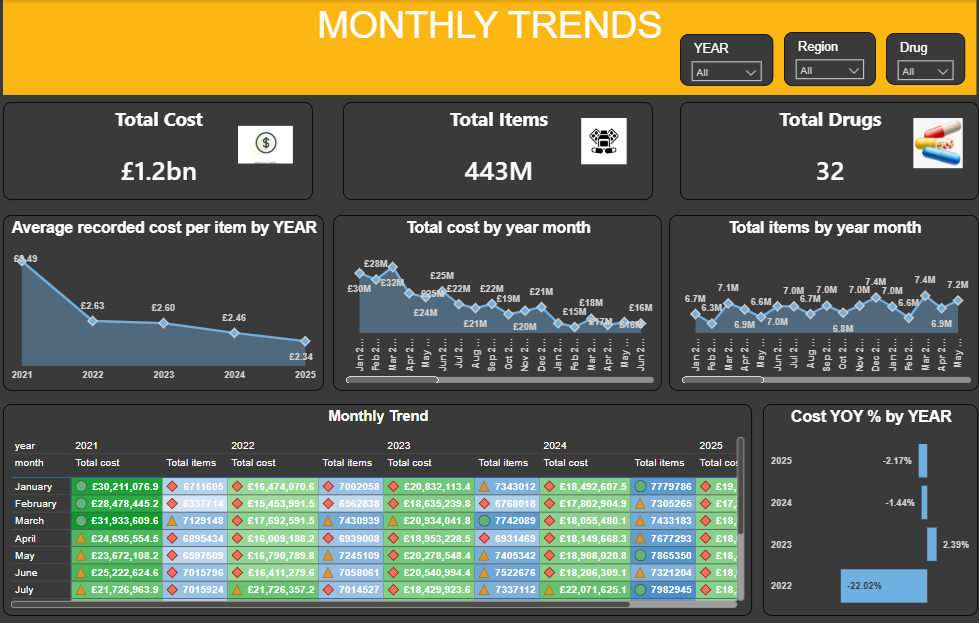

This screenshot's page, from the dashboard's own definition file:
{"tool":"powerbi","page":{"name":"Page 4","canvas":[1280,800],"ordinal":3},"visuals":[{"type":"lineChart","fields":{"Category":["Datetable.year month"],"Y":["antidepressants_2021_2025_final1.Total  items"]},"box":[869.5,274.1,395.2,224.4],"z":0},{"type":"lineChart","fields":{"Category":["Datetable.year month"],"Y":["antidepressants_2021_2025_final1.Total  cost"]},"box":[441.1,274.1,419.4,224.4],"z":1000},{"type":"pivotTable","title":"Monthly Trend","fields":{"Rows":["Datetable.month"],"Columns":["Datetable.year"],"Values":["antidepressants_2021_2025_final1.Total  cost","antidepressants_2021_2025_final1.Total  items"]},"box":[20.4,515.1,954.9,270.3],"z":2000},{"type":"slicer","fields":{"Values":["Datetable.year","antidepressants_2021_2025_final1.YEAR"]},"box":[869.5,47.2,132.6,62.5],"z":3000},{"type":"textbox","box":[19.9,0,1241.1,120.8],"z":4000},{"type":"slicer","fields":{"Values":["antidepressants_2021_2025_final1.YEAR"]},"box":[883.5,43.3,118.6,66.3],"z":5000},{"type":"slicer","fields":{"Values":["antidepressants_2021_2025_final1.Region"]},"box":[1016.1,40.8,117.3,68.8],"z":6000},{"type":"slicer","fields":{"Values":["antidepressants_2021_2025_final1.Drug"]},"box":[1146.1,42.1,100.7,66.3],"z":7000},{"type":"lineChart","fields":{"Category":["antidepressants_2021_2025_final1.YEAR"],"Y":["antidepressants_2021_2025_final1.Average recorded cost per item"]},"box":[20.4,274.1,409.2,224.4],"z":8000},{"type":"cardVisual","title":"Total Cost","fields":{"Data":["antidepressants_2021_2025_final1.Total  cost"]},"box":[20.4,130,395.2,124.9],"z":9000},{"type":"cardVisual","title":"Total Items","fields":{"Data":["antidepressants_2021_2025_final1.Total  items"]},"box":[453.9,130,395.2,124.9],"z":10000},{"type":"cardVisual","title":"Total Drugs","fields":{"Data":["antidepressants_2021_2025_final1.Total Drugs"]},"box":[883.5,130,381.2,124.9],"z":11000},{"type":"image","box":[1178,150.4,68.8,63.7],"z":12000},{"type":"image","box":[744.5,150.4,84.1,58.6],"z":13000},{"type":"image","box":[320,150.4,70.1,67.6],"z":14000},{"type":"clusteredBarChart","fields":{"Category":["antidepressants_2021_2025_final1.YEAR"],"Y":["antidepressants_2021_2025_final1.Cost YOY %"]},"box":[989.3,515.1,274.1,270.3],"z":15000}]}

Visuals, with their boxes in screenshot pixels (x1, y1, x2, y2), scaled from the page's 1280x800 canvas onto the 979x623 screenshot:
lineChart - Datetable.year month x antidepressants_2021_2025_final1.Total  items: BBox(665, 213, 967, 388)
lineChart - Datetable.year month x antidepressants_2021_2025_final1.Total  cost: BBox(337, 213, 658, 388)
"Monthly Trend" pivotTable: BBox(16, 401, 746, 612)
slicer - Datetable.year x antidepressants_2021_2025_final1.YEAR: BBox(665, 37, 766, 85)
textbox: BBox(15, 0, 964, 94)
slicer - antidepressants_2021_2025_final1.YEAR: BBox(676, 34, 766, 85)
slicer - antidepressants_2021_2025_final1.Region: BBox(777, 32, 867, 85)
slicer - antidepressants_2021_2025_final1.Drug: BBox(877, 33, 954, 84)
lineChart - antidepressants_2021_2025_final1.YEAR x antidepressants_2021_2025_final1.Average recorded cost per item: BBox(16, 213, 329, 388)
"Total Cost" cardVisual: BBox(16, 101, 318, 199)
"Total Items" cardVisual: BBox(347, 101, 649, 199)
"Total Drugs" cardVisual: BBox(676, 101, 967, 199)
image: BBox(901, 117, 954, 167)
image: BBox(569, 117, 634, 163)
image: BBox(245, 117, 298, 170)
clusteredBarChart - antidepressants_2021_2025_final1.YEAR x antidepressants_2021_2025_final1.Cost YOY %: BBox(757, 401, 966, 612)
